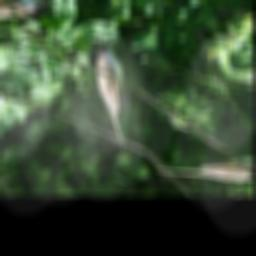Cuckoo: (46, 36, 186, 149)
